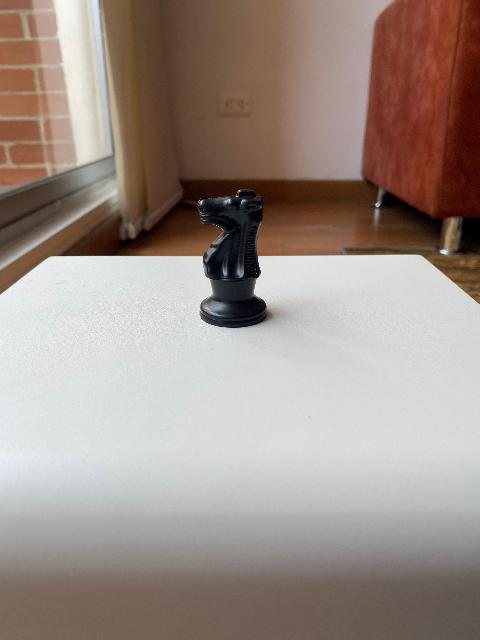black-knight: (196, 188, 268, 328)
